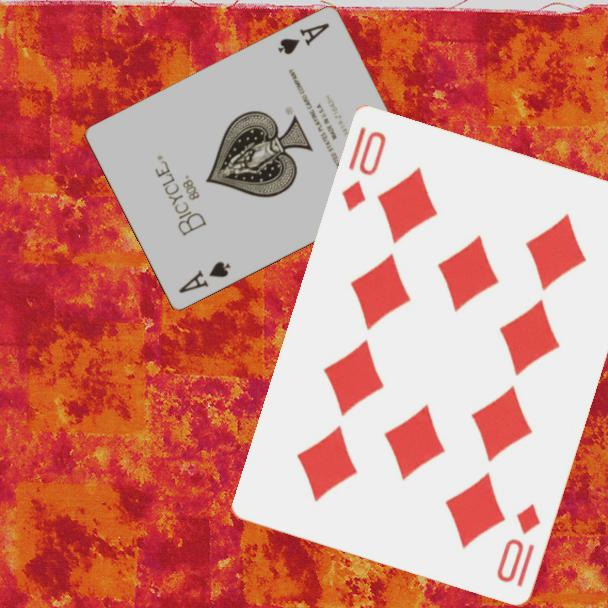d10: (338, 123, 390, 215), (493, 501, 544, 591)
s01: (175, 258, 233, 297), (274, 20, 332, 58)
